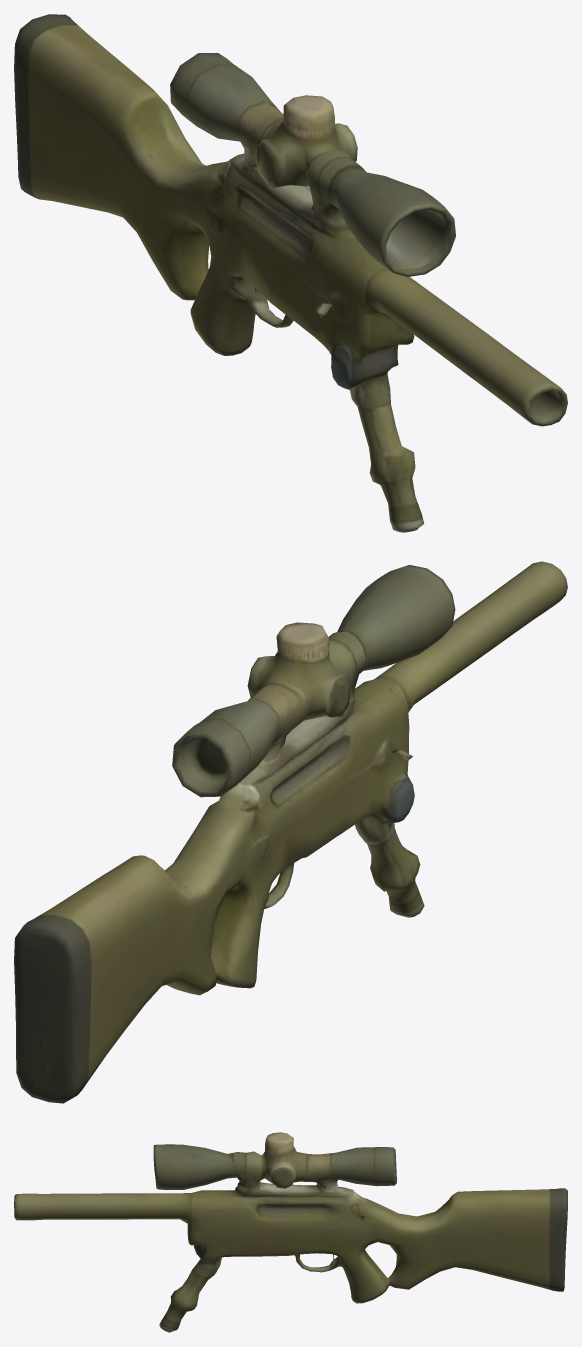
File: wpn_sniper.glb
3 views of the same model, one above another, from view 1: azimuth 30°, elevation 25°; view 2: azimuth 150°, elevation 25°; view 3: azimuth 270°, elevation 25° (orthographic). The views are drawn at different scales.
Visible parts, largest first — view 1: wpn_sniper_mid; view 2: wpn_sniper_mid; view 3: wpn_sniper_mid.
Boxes of the visible parts, x1=… form: wpn_sniper_mid: x1=14, y1=14, x2=567, y2=532; wpn_sniper_mid: x1=14, y1=561, x2=567, y2=1103; wpn_sniper_mid: x1=14, y1=1132, x2=567, y2=1332.
Bounding box in the file's own units: 0.1051 × 0.3868 × 1.
Materials: 1 (1 with a texture image).
